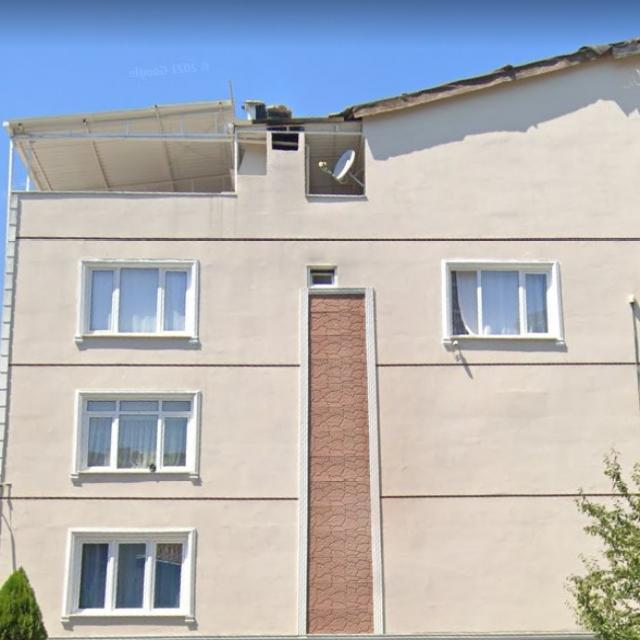Building: (0, 38, 640, 640)
